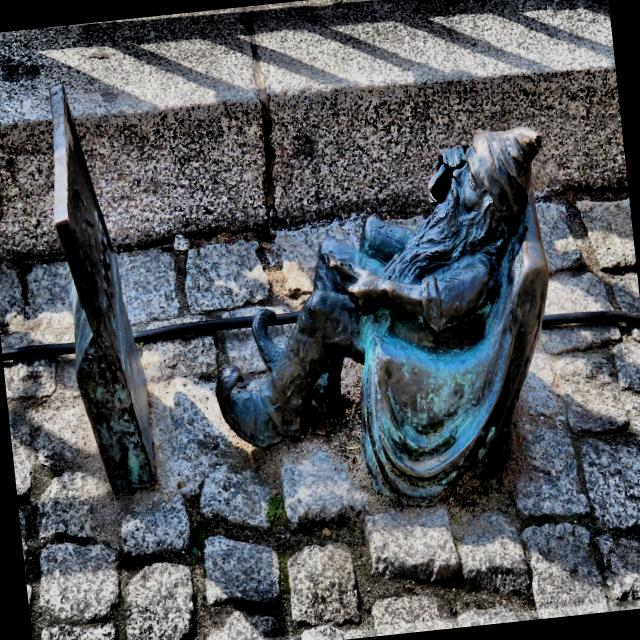Dialogomir: (214, 128, 548, 500), (51, 88, 160, 497)
